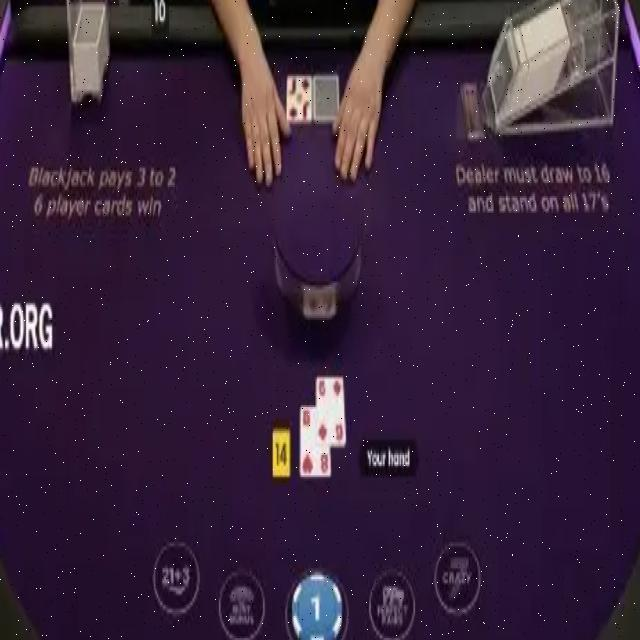Card-6: (316, 377, 345, 445)
Card-8: (300, 404, 330, 476)
Card-J: (287, 75, 312, 122)
